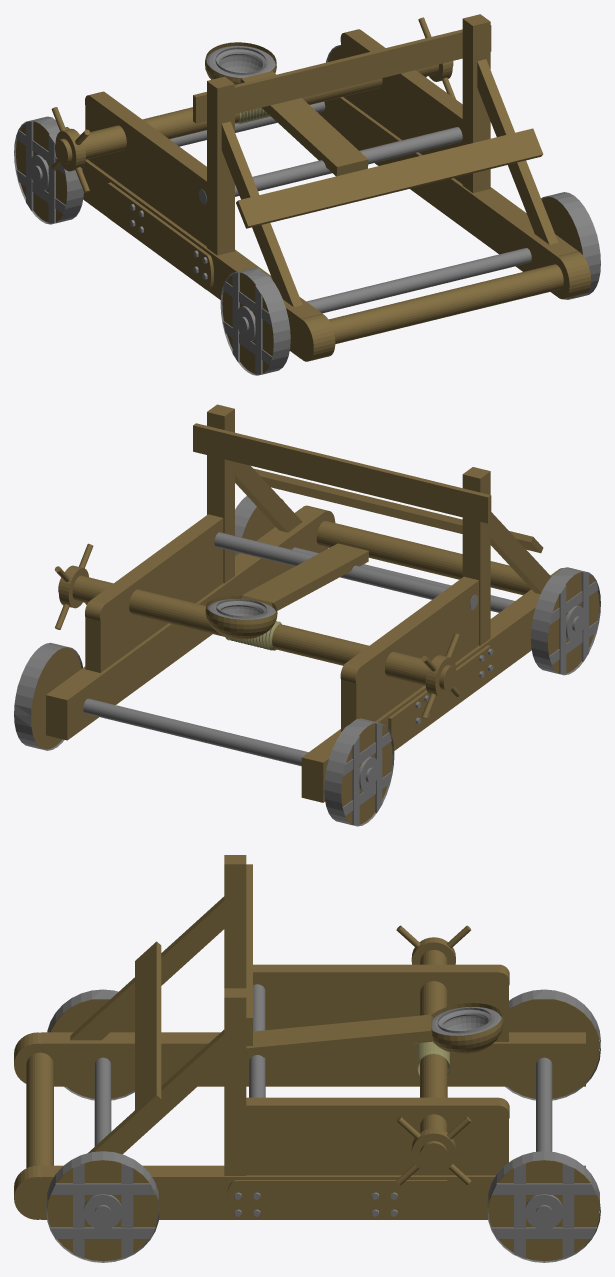
File: Catapulta.dae
3 renders of one model, top to bottom at view 1: azimuth 30°, elevation 25°; view 2: azimuth 150°, elevation 25°; view 3: azimuth 270°, elevation 25°, orthographic. The views are drawn at different scales.
Visible parts, largest first — view 1: Armazon_Superior, Base, Brazo, Rueda_1, Rota, Rueda_3, Delanteras, Rueda_2, Traseras; view 2: Armazon_Superior, Base, Rota, Brazo, Rueda_3, Rueda_1, Rueda_4, Traseras, Rueda_2, Delanteras; view 3: Armazon_Superior, Base, Rueda_4, Rueda_2, Brazo, Rota, Rueda_3, Rueda_1, Traseras, Delanteras.
Part boxes in pixels (bbox=[...]): Armazon_Superior: bbox=[85, 14, 558, 306]; Base: bbox=[65, 97, 590, 361]; Brazo: bbox=[198, 42, 462, 204]; Rueda_1: bbox=[220, 267, 290, 375]; Rota: bbox=[51, 17, 455, 193]; Rueda_3: bbox=[14, 116, 83, 224]; Delanteras: bbox=[239, 248, 531, 332]; Rueda_2: bbox=[541, 192, 600, 299]; Traseras: bbox=[32, 101, 325, 180]; Armazon_Superior: bbox=[85, 404, 551, 731]; Base: bbox=[46, 505, 562, 802]; Rota: bbox=[54, 543, 459, 719]; Brazo: bbox=[205, 532, 478, 639]; Rueda_3: bbox=[324, 718, 394, 826]; Rueda_1: bbox=[530, 567, 600, 675]; Rueda_4: bbox=[14, 642, 82, 750]; Traseras: bbox=[83, 698, 375, 782]; Rueda_2: bbox=[235, 496, 283, 556]; Delanteras: bbox=[292, 547, 582, 631]; Armazon_Superior: bbox=[70, 855, 509, 1175]; Base: bbox=[14, 1032, 585, 1219]; Rueda_4: bbox=[487, 1151, 600, 1262]; Rueda_2: bbox=[46, 1151, 159, 1262]; Brazo: bbox=[246, 984, 503, 1097]; Rota: bbox=[396, 925, 471, 1185]; Rueda_3: bbox=[505, 989, 600, 1100]; Rueda_1: bbox=[47, 989, 134, 1100]; Traseras: bbox=[536, 1057, 552, 1220]; Delanteras: bbox=[94, 1057, 111, 1220].
Bounding box in the file's own units: 4.31 × 5.32 × 2.52.
